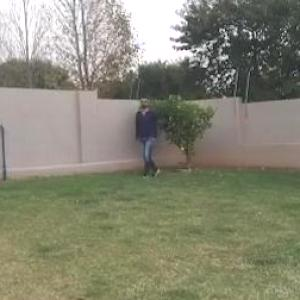follow: (138, 93, 160, 180)
